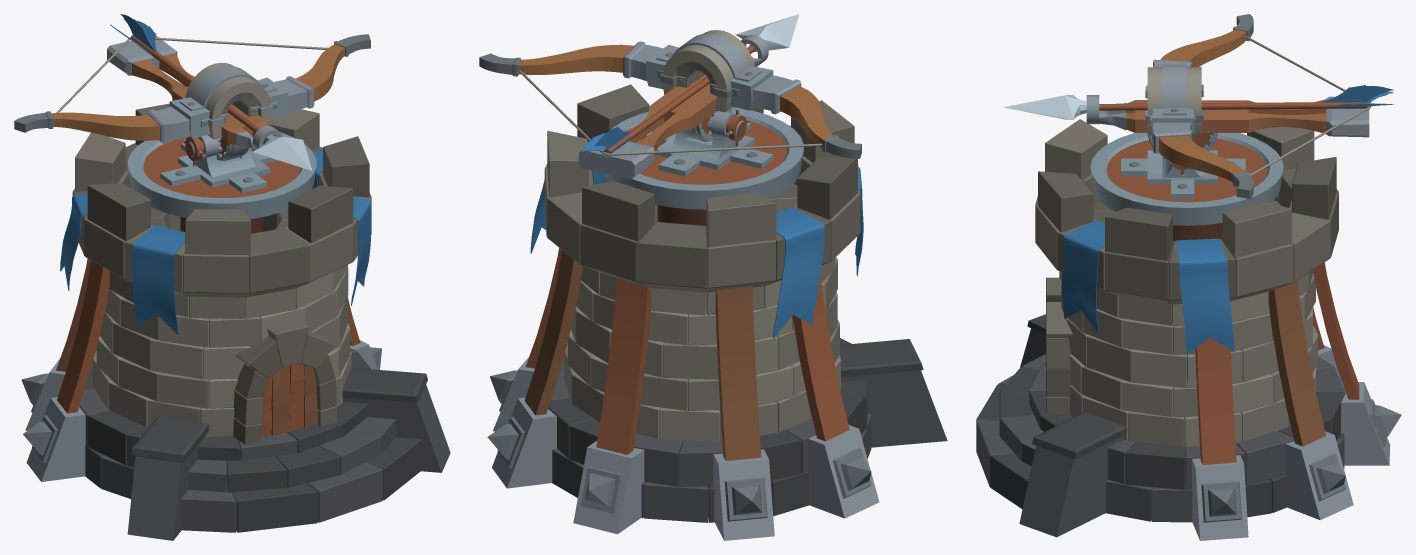
The model's file is Tower.fbx.
The picture shows the model from 3 angles, left to right: view 1: azimuth 30°, elevation 25°; view 2: azimuth 150°, elevation 25°; view 3: azimuth 270°, elevation 25°; orthographic projection. The views are drawn at different scales.
Visible parts, largest first — view 1: Cube.033_stone-1.001_0.001; view 2: Cube.033_stone-1.001_0.001; view 3: Cube.033_stone-1.001_0.001.
Boxes of the visible parts, x1,y1,x2,y2 form: Cube.033_stone-1.001_0.001: (14,14,450,540); Cube.033_stone-1.001_0.001: (479,14,947,540); Cube.033_stone-1.001_0.001: (976,14,1401,540).
Bounding box in the file's own units: 11067 × 11252 × 11183.
